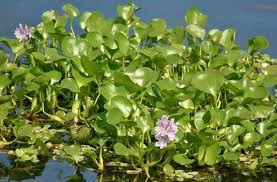water_hyacinth: (1, 6, 275, 173)
